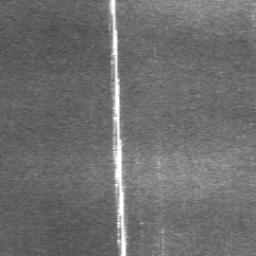Bright scratch: (108, 0, 127, 256)
